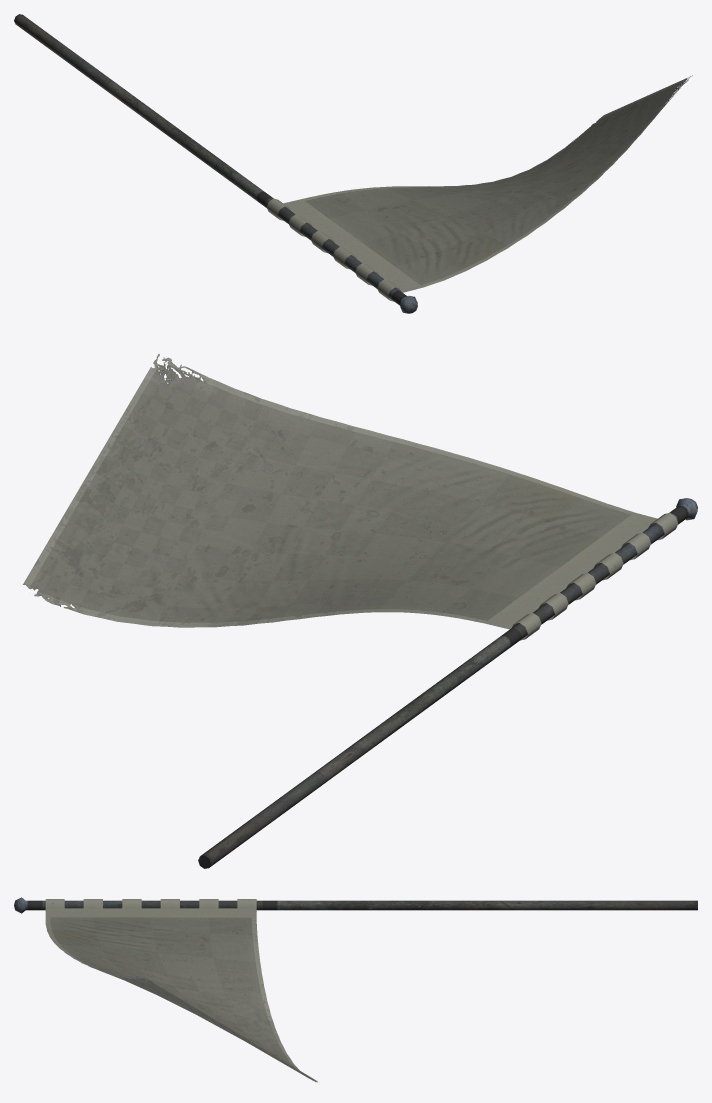
The model's file is mp_flag_neutral_LOD0.obj.
3 views of the same model, one above another, from view 1: azimuth 30°, elevation 25°; view 2: azimuth 150°, elevation 25°; view 3: azimuth 270°, elevation 25° (orthographic). The views are drawn at different scales.
Parts seen in each view (by area): view 1: mtl_flag_neutral, mtl_mp_flag_base; view 2: mtl_flag_neutral, mtl_mp_flag_base; view 3: mtl_flag_neutral, mtl_mp_flag_base.
Part boxes in pixels (left/top/right/bottom): mtl_flag_neutral: left=266, top=75, right=692, bottom=301; mtl_mp_flag_base: left=14, top=14, right=417, bottom=313; mtl_flag_neutral: left=23, top=354, right=678, bottom=640; mtl_mp_flag_base: left=198, top=498, right=697, bottom=868; mtl_flag_neutral: left=45, top=899, right=317, bottom=1082; mtl_mp_flag_base: left=14, top=897, right=697, bottom=913.
Size of the model in its own units: 116 by 44.12 by 212.
